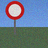sign: (5, 1, 24, 34)
